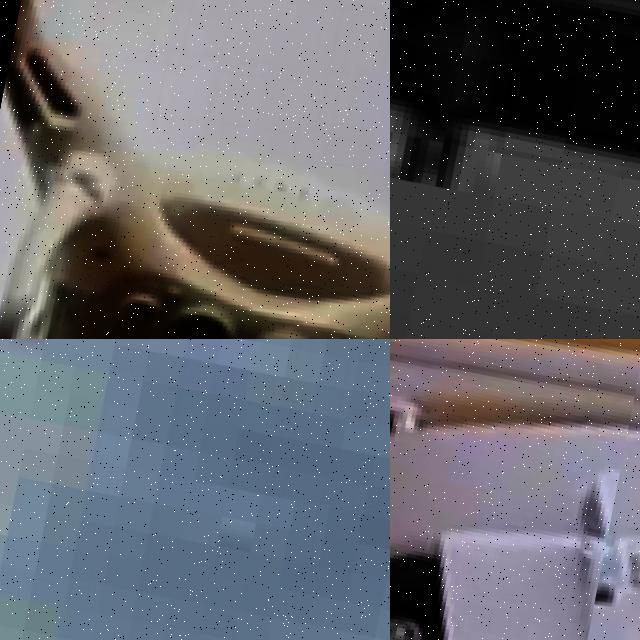drone: (0, 0, 390, 339), (575, 339, 640, 640)
